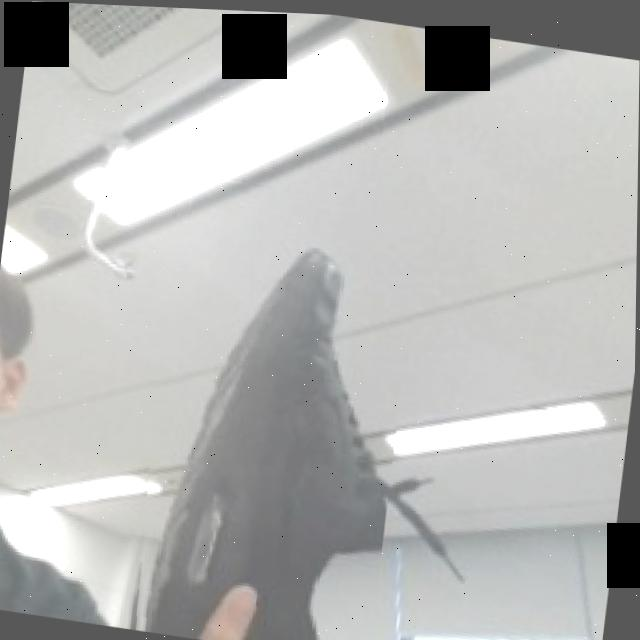shoe: (122, 223, 416, 640)
